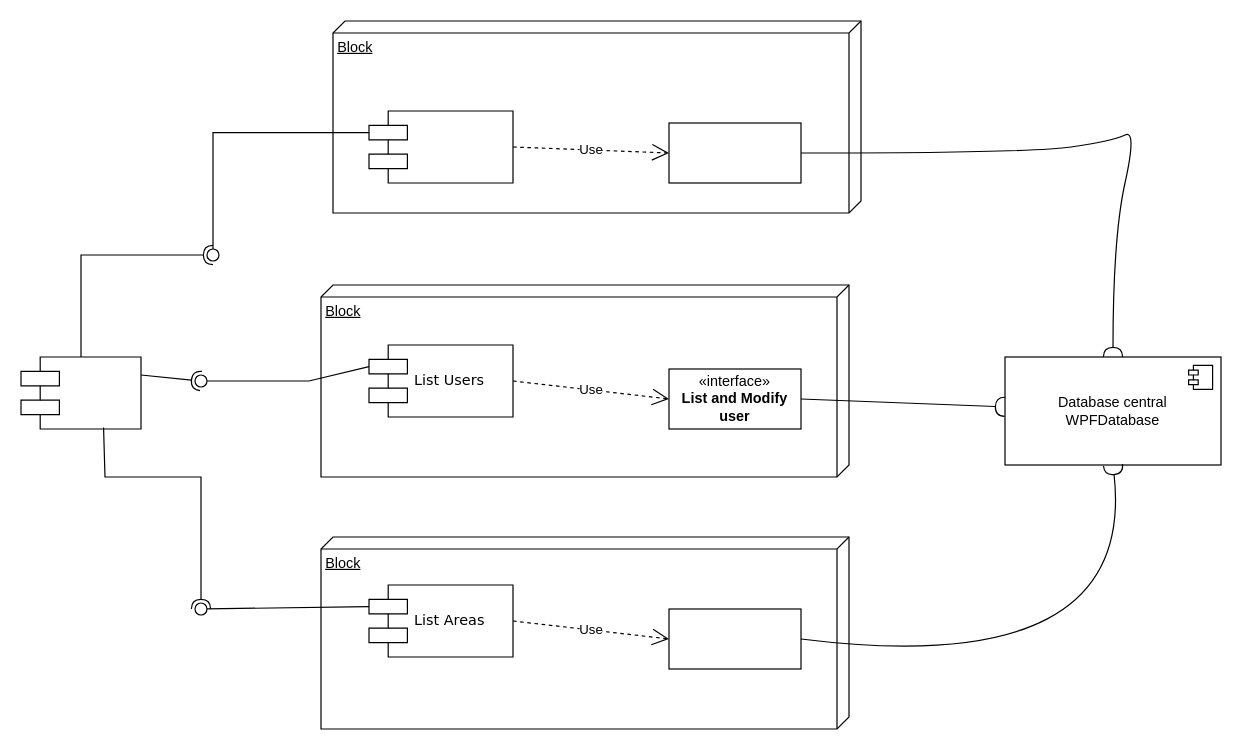
Image size: 1242x750. Some labels were removed from this diagram. Here are the shapes that lost their labels. From the top down, the centre of each, then its label:
At pixel 440 146: "New User".
At pixel 734 152: "«interface» Create New User".
At pixel 80 392: "Main".
At pixel 734 638: "«interface» List and Modify Areas".
